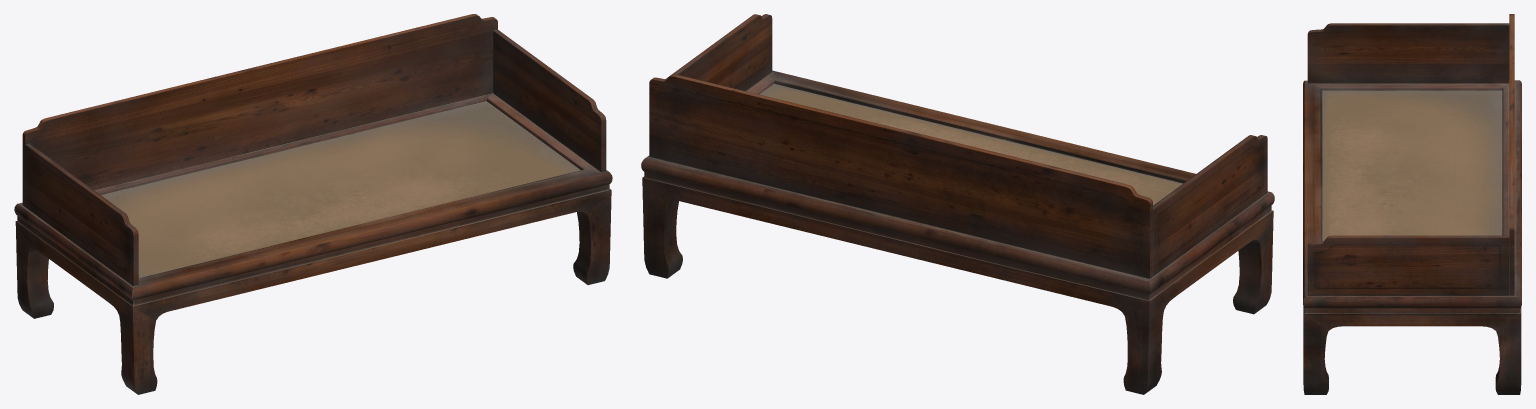
The model's file is chinese_sofa.glb.
3 renders of one model, left to right at view 1: azimuth 30°, elevation 25°; view 2: azimuth 150°, elevation 25°; view 3: azimuth 270°, elevation 25°, orthographic. The views are drawn at different scales.
Visible parts, largest first — view 1: chinese_sofa; view 2: chinese_sofa; view 3: chinese_sofa.
Boxes of the visible parts, bbox=[...] form: chinese_sofa: bbox=[14, 14, 612, 394]; chinese_sofa: bbox=[641, 14, 1274, 394]; chinese_sofa: bbox=[1303, 14, 1521, 394].
Bounding box in the file's own units: 2.29 × 0.86 × 0.9689.
Materials: 1 (1 with a texture image).
